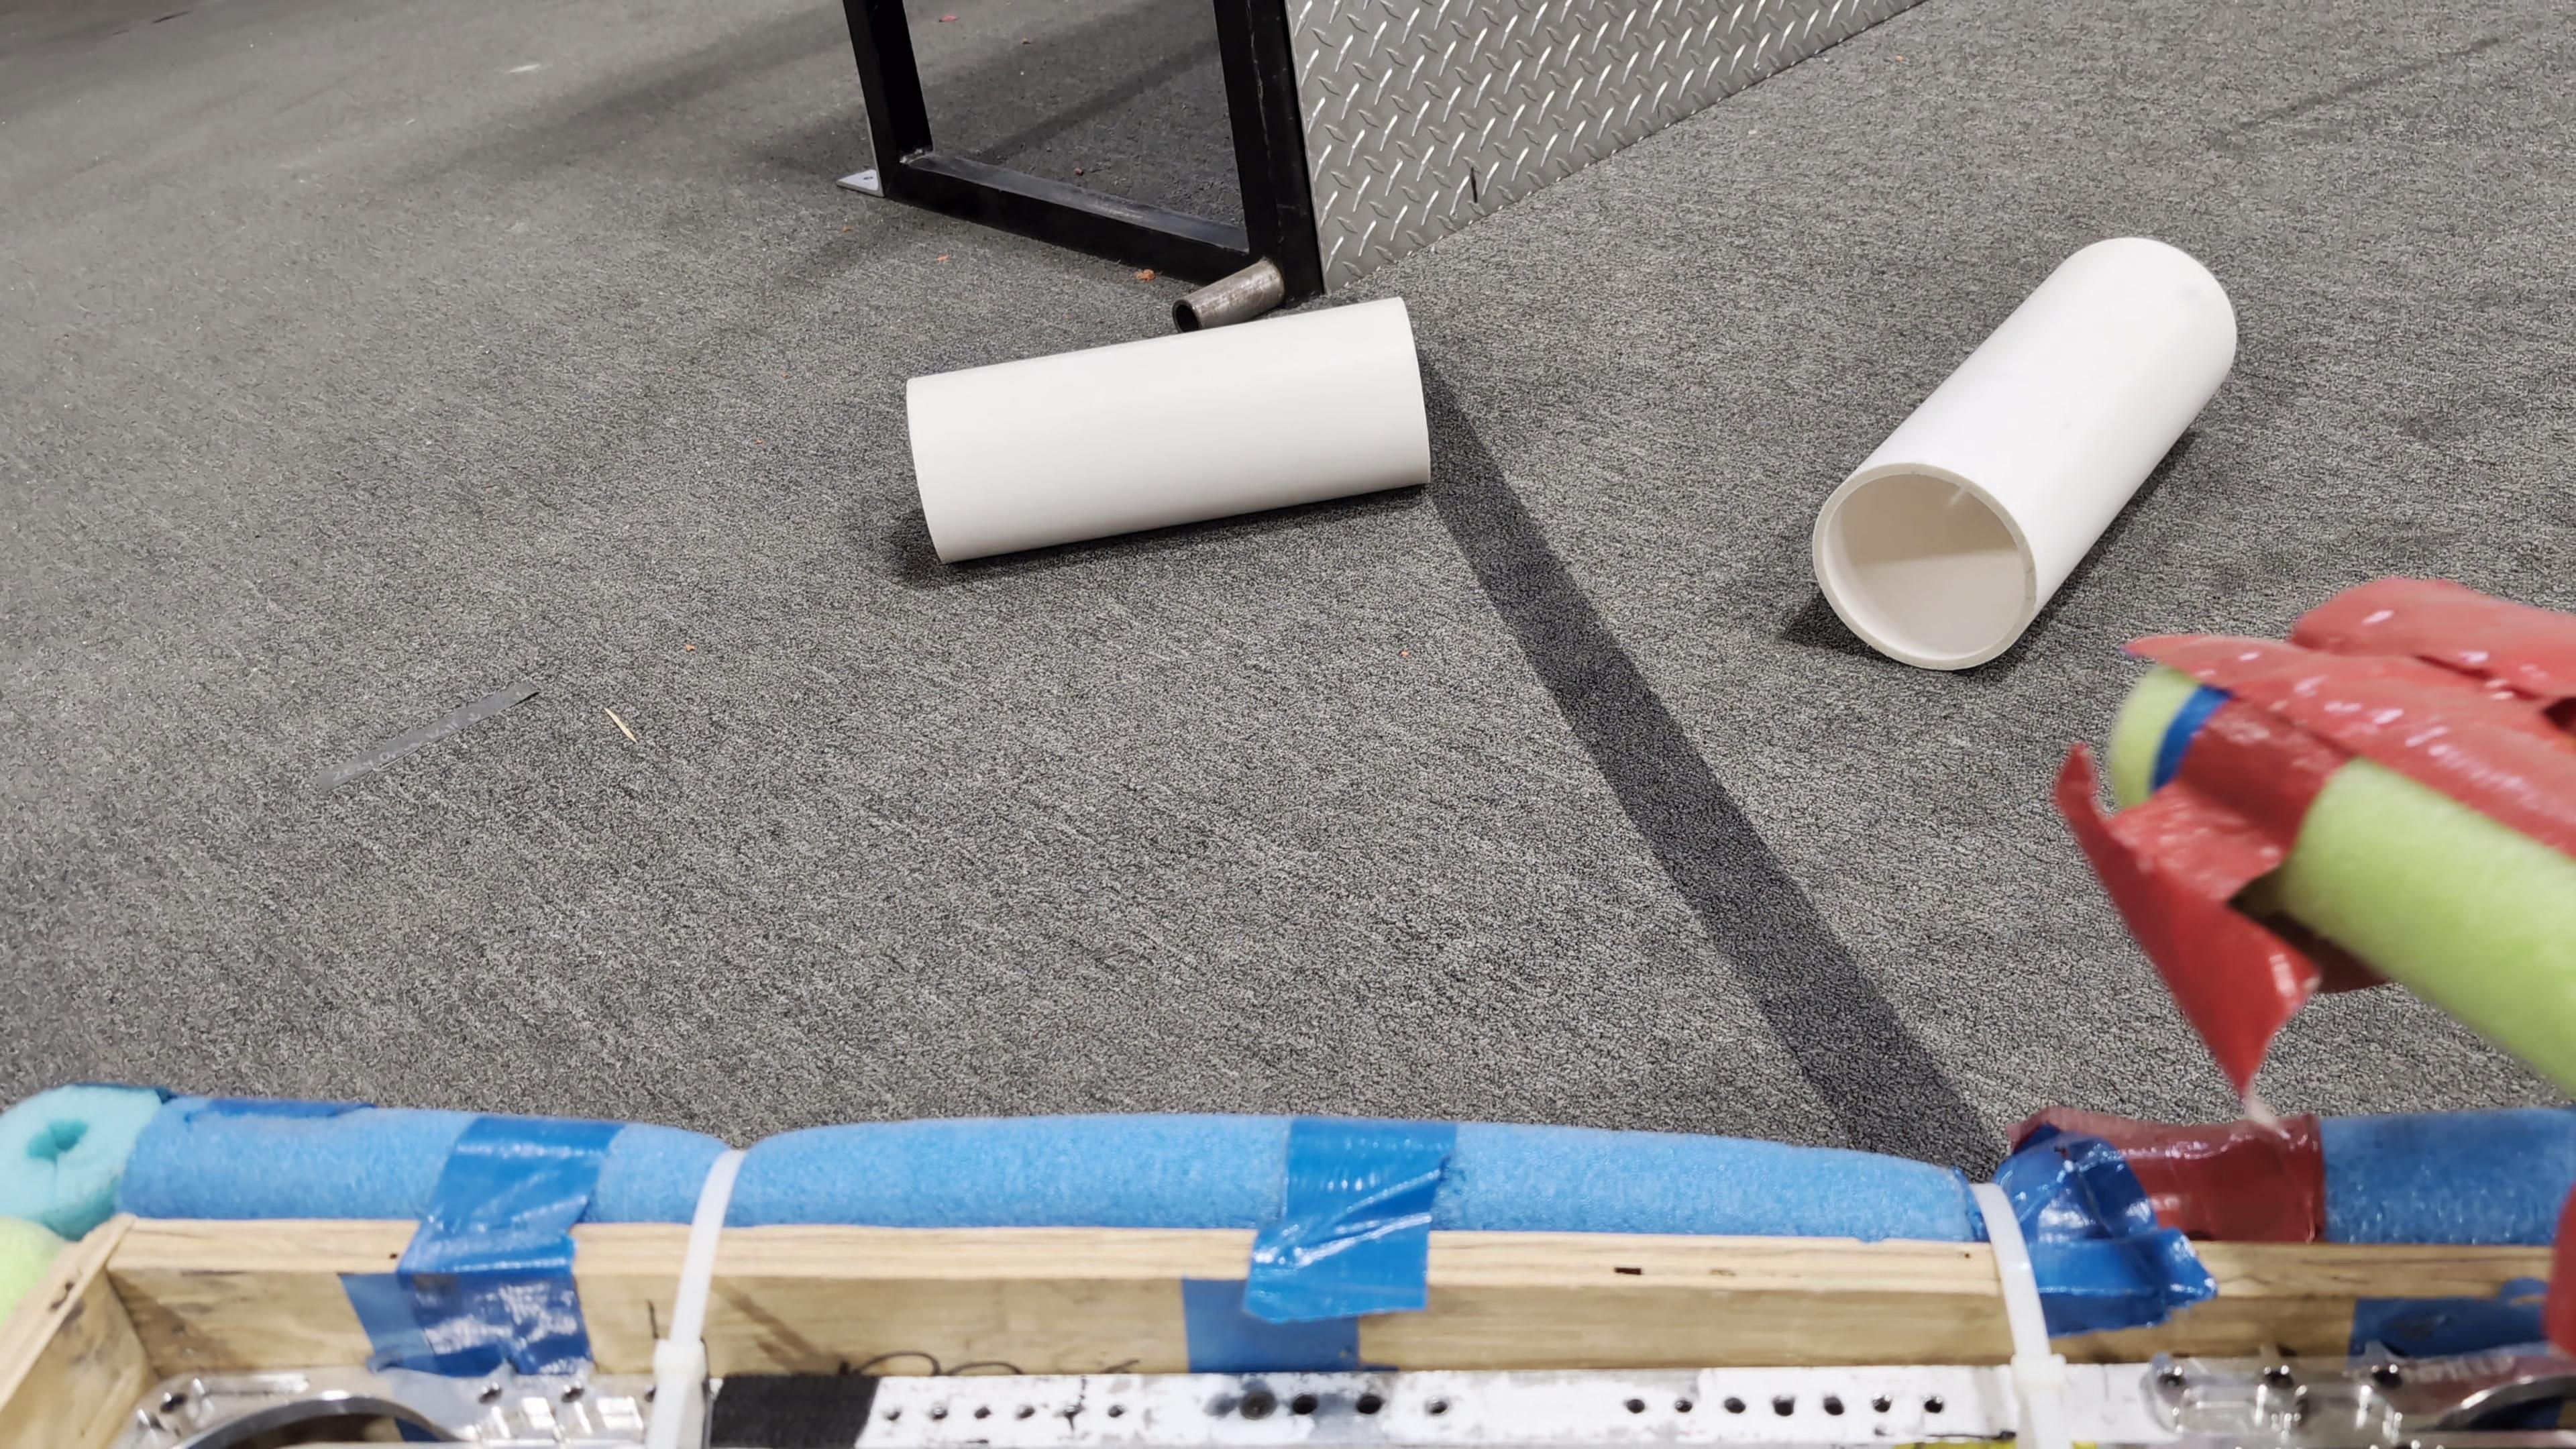coral: (1812, 230, 2242, 671), (902, 292, 1433, 563)
